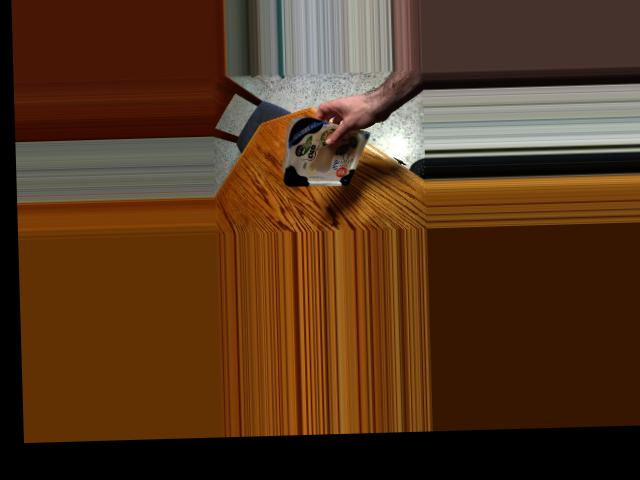cheese: (279, 126, 364, 180)
